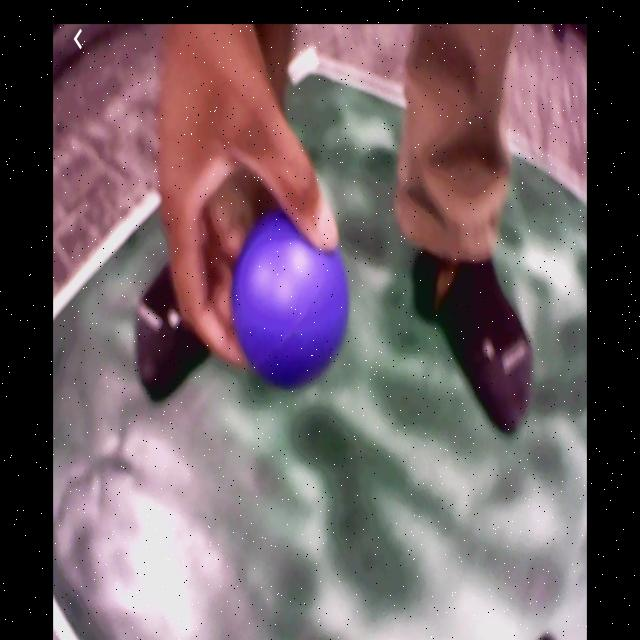ball: (233, 217, 349, 391)
